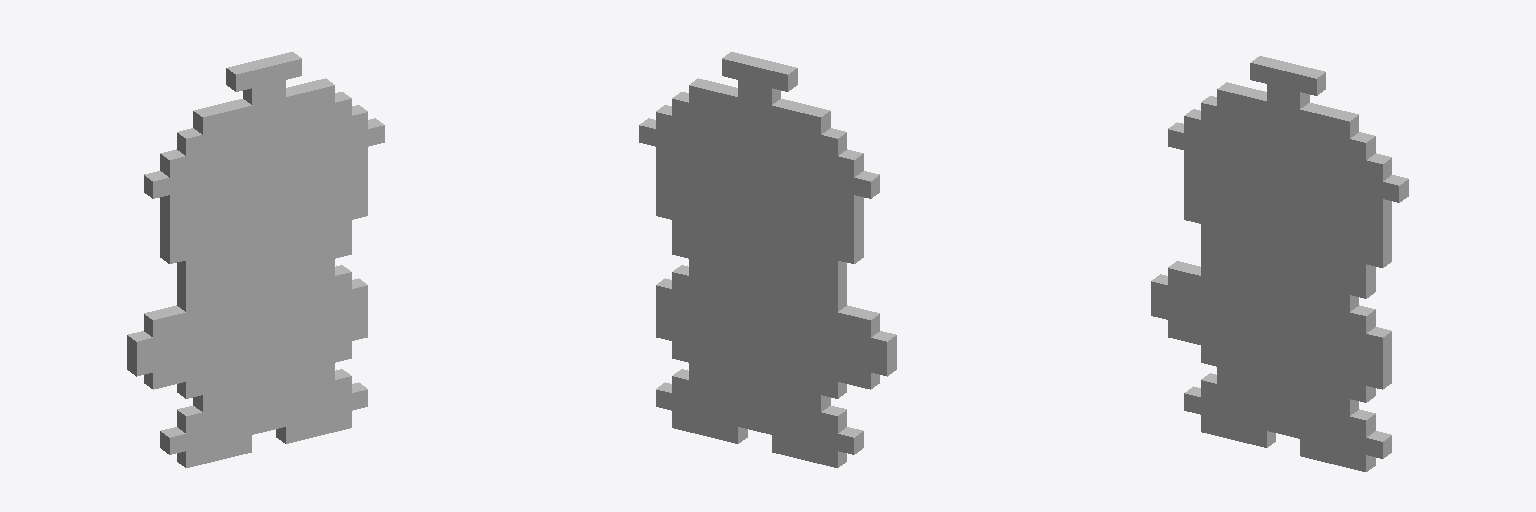
Rendered from grandma throw.obj.
3 views of the same model, side by side, from view 1: azimuth 30°, elevation 25°; view 2: azimuth 150°, elevation 25°; view 3: azimuth 330°, elevation 25° (orthographic).
Parts seen in each view (by area): view 1: object 1; view 2: object 1; view 3: object 1.
Boxes of the visible parts, x1=… form: object 1: x1=127, y1=52, x2=384, y2=467; object 1: x1=639, y1=52, x2=896, y2=467; object 1: x1=1151, y1=56, x2=1408, y2=471.
Bounding box in the file's own units: 1.5 × 2.2 × 0.1.